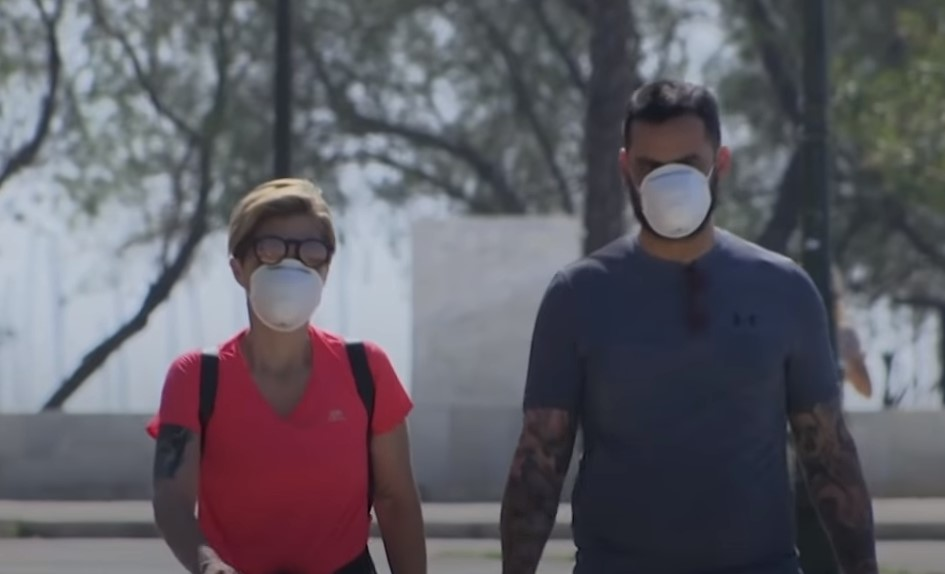face_with_mask: (614, 78, 737, 250), (228, 183, 339, 339)
